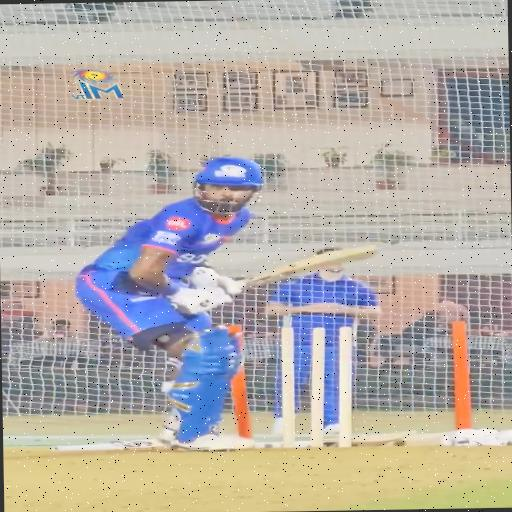Cricket bat: (244, 245, 377, 289)
